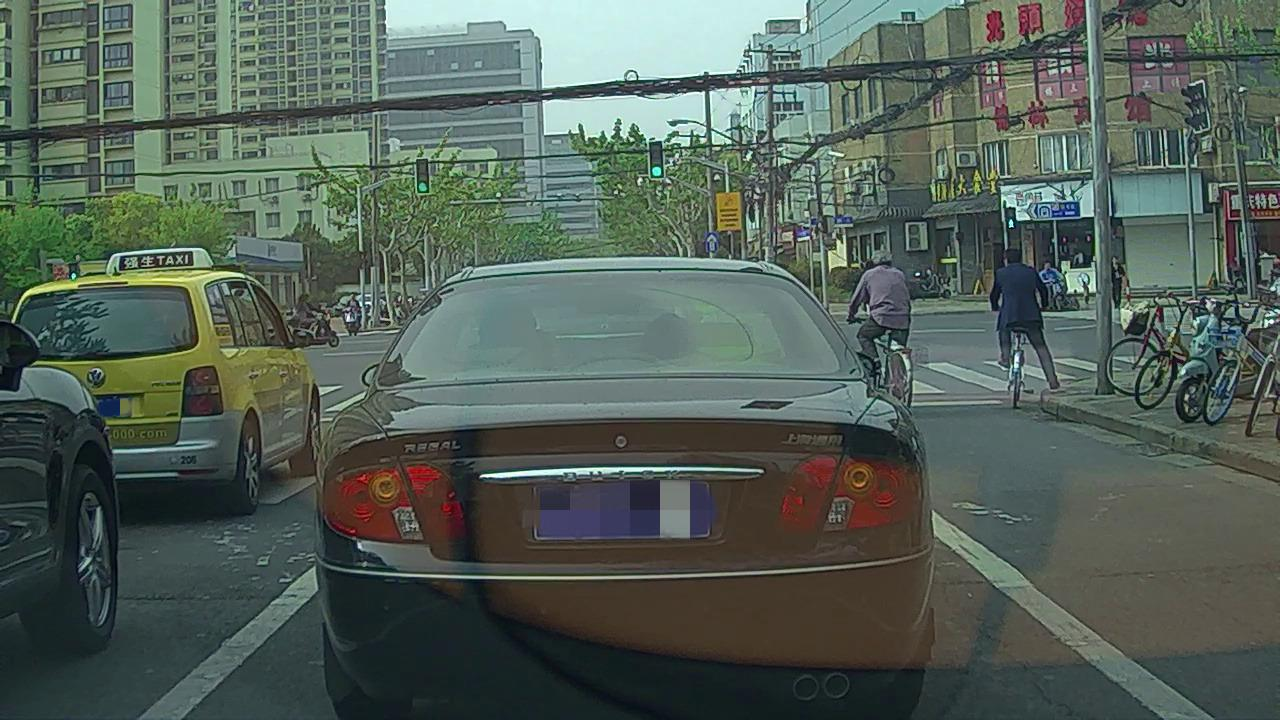traffic_light: (648, 141, 664, 179), (416, 158, 430, 194)
